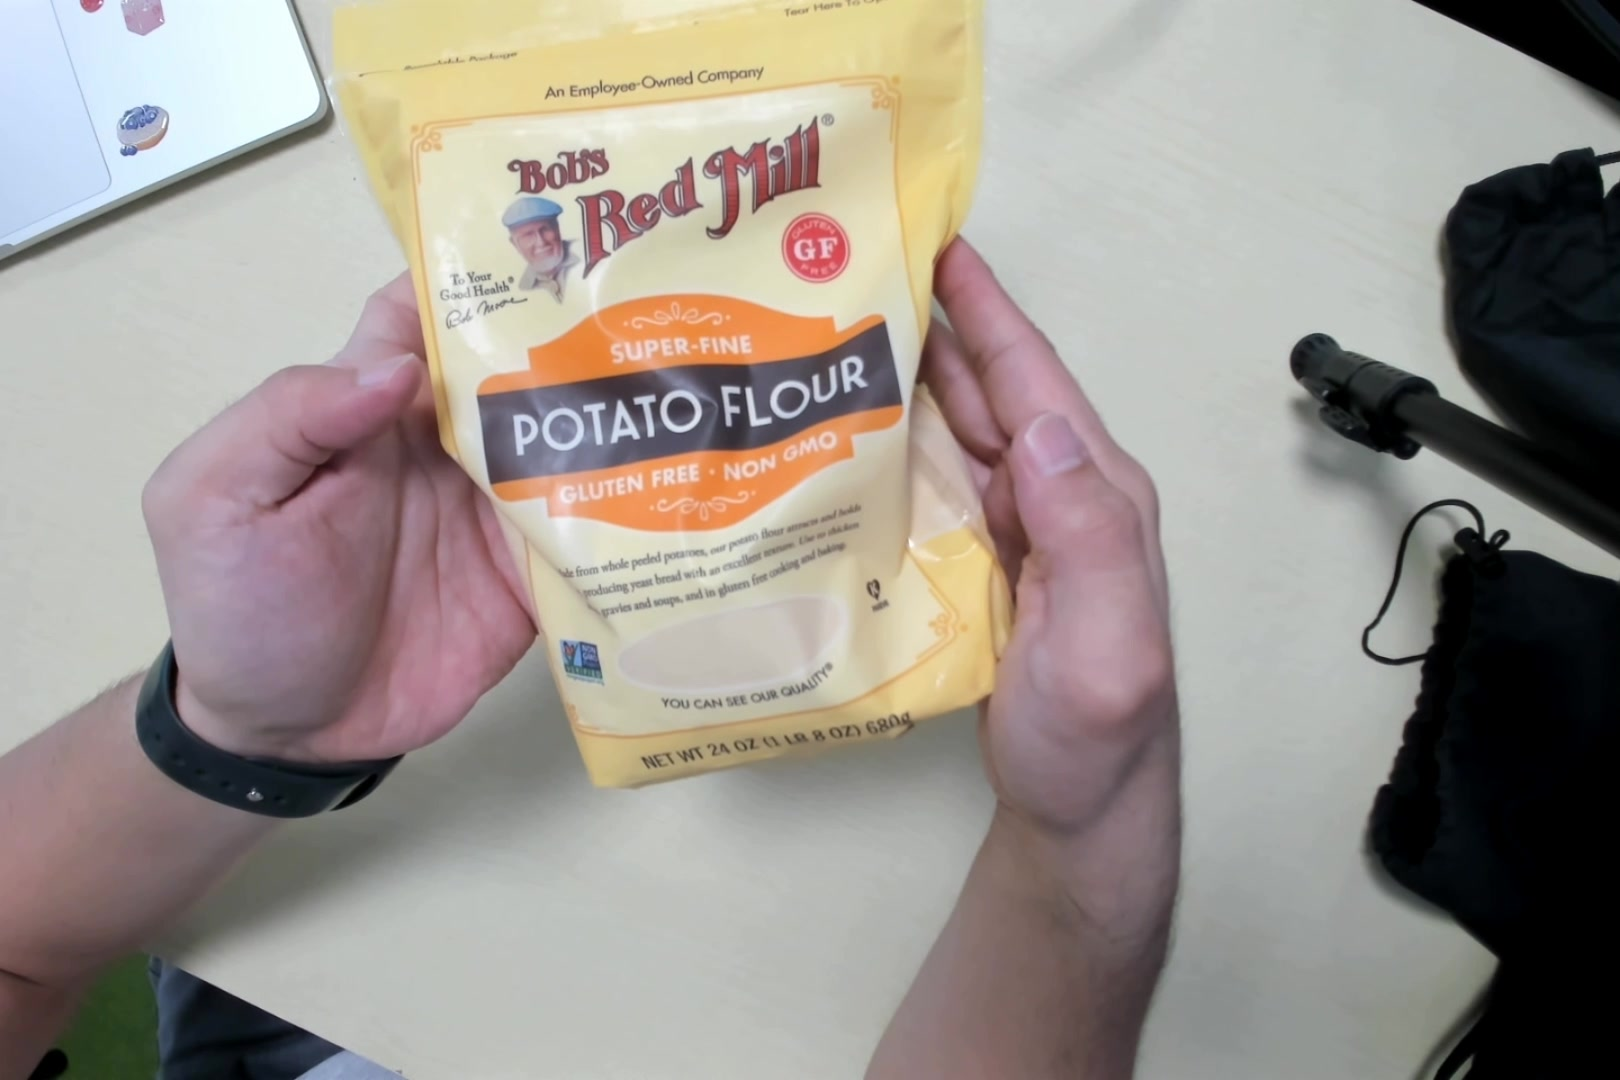OtherBakingNeeds_600-699g_NonHalal_NonHealthy: (337, 11, 1014, 783)
